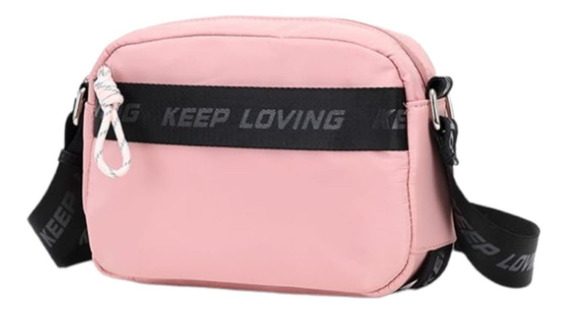cartera: (28, 13, 543, 298)
